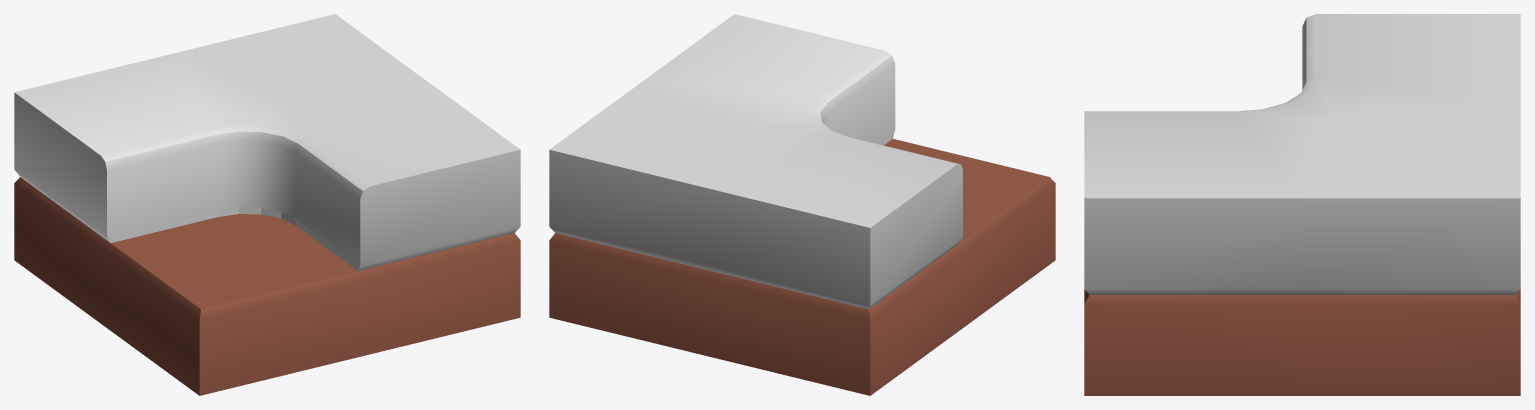
Rendered from square_snow_waterInnerCorner_empty.fbx.
The picture shows the model from 3 angles, left to right: view 1: azimuth 30°, elevation 25°; view 2: azimuth 150°, elevation 25°; view 3: azimuth 270°, elevation 25°; orthographic projection. The views are drawn at different scales.
Parts seen in each view (by area): view 1: square_snow_waterInnerCorner_empty; view 2: square_snow_waterInnerCorner_empty; view 3: square_snow_waterInnerCorner_empty.
Part boxes in pixels (bbox=[...]): square_snow_waterInnerCorner_empty: bbox=[14, 14, 520, 395]; square_snow_waterInnerCorner_empty: bbox=[549, 14, 1055, 395]; square_snow_waterInnerCorner_empty: bbox=[1084, 14, 1520, 395].
Bounding box in the file's own units: 2 × 1 × 2.
